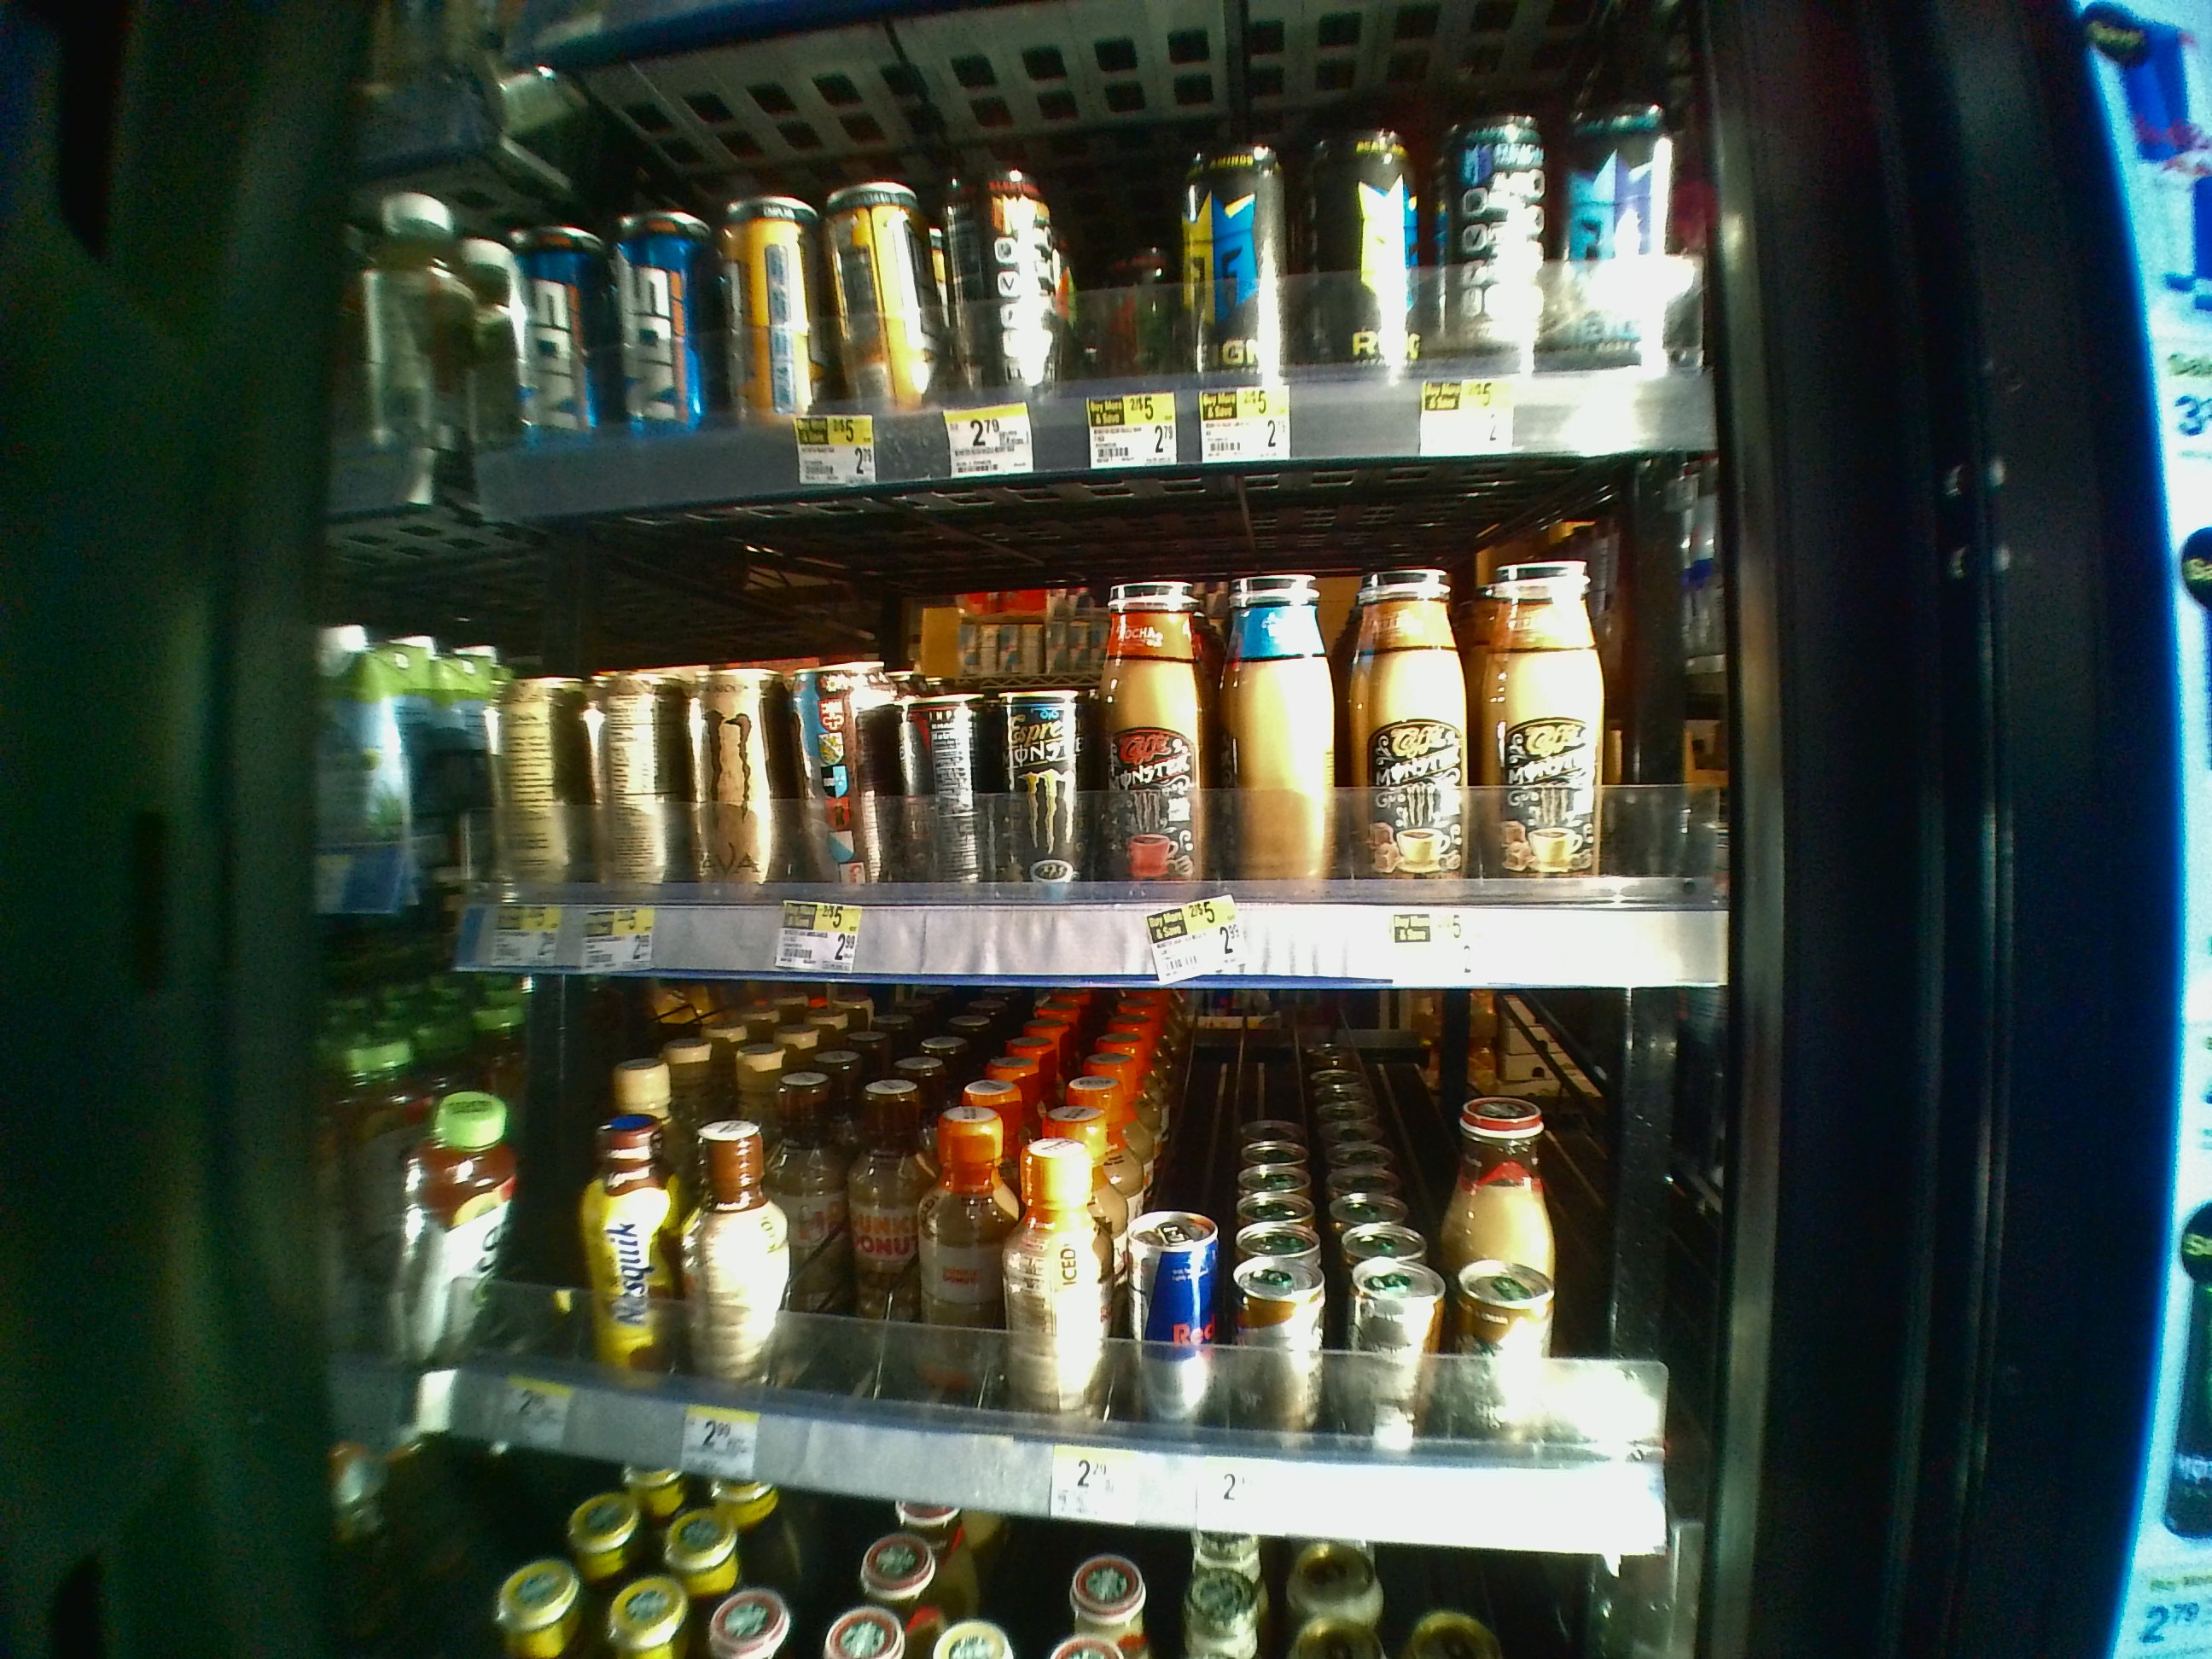shelf: (317, 967, 1750, 1518), (331, 472, 1761, 974)
